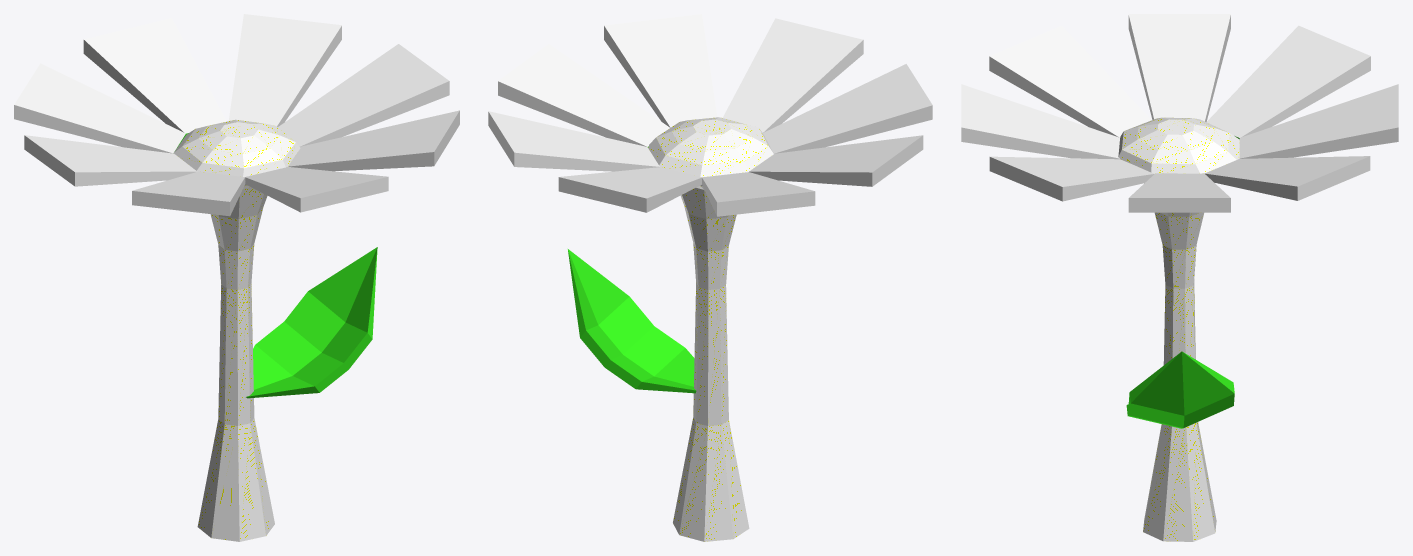
File: flower.fbx
3 views of the same model, side by side, from view 1: azimuth 30°, elevation 25°; view 2: azimuth 150°, elevation 25°; view 3: azimuth 270°, elevation 25° (orthographic).
Parts seen in each view (by area): view 1: Circle; view 2: Circle; view 3: Circle.
Part boxes in pixels (bbox=[...]): Circle: bbox=[14, 14, 459, 541]; Circle: bbox=[488, 14, 932, 541]; Circle: bbox=[961, 14, 1398, 541].
Size of the model in its own units: 645 by 687 by 647.
Materials: 2 (2 with a texture image).
